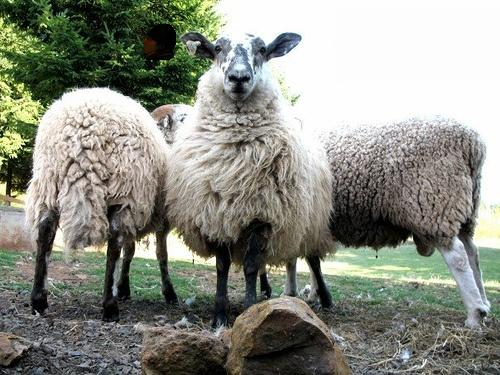tampered: (143, 25, 176, 60)
